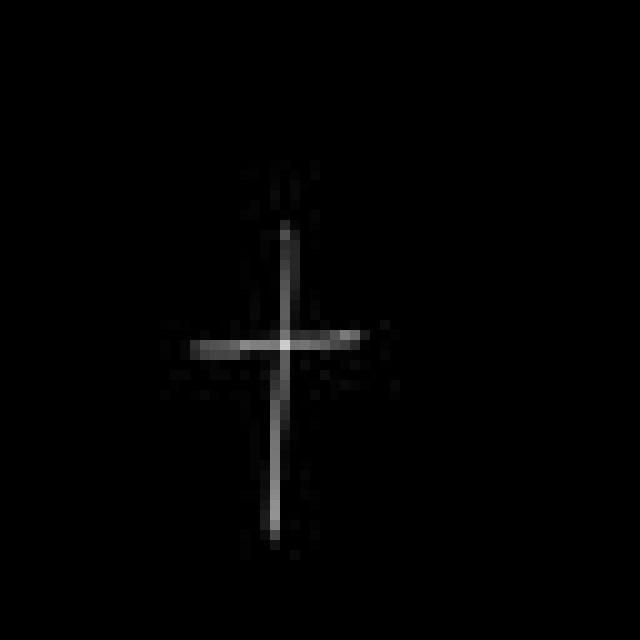10 -ten-: (184, 213, 377, 548)
